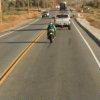Car: (51, 8, 74, 31)
